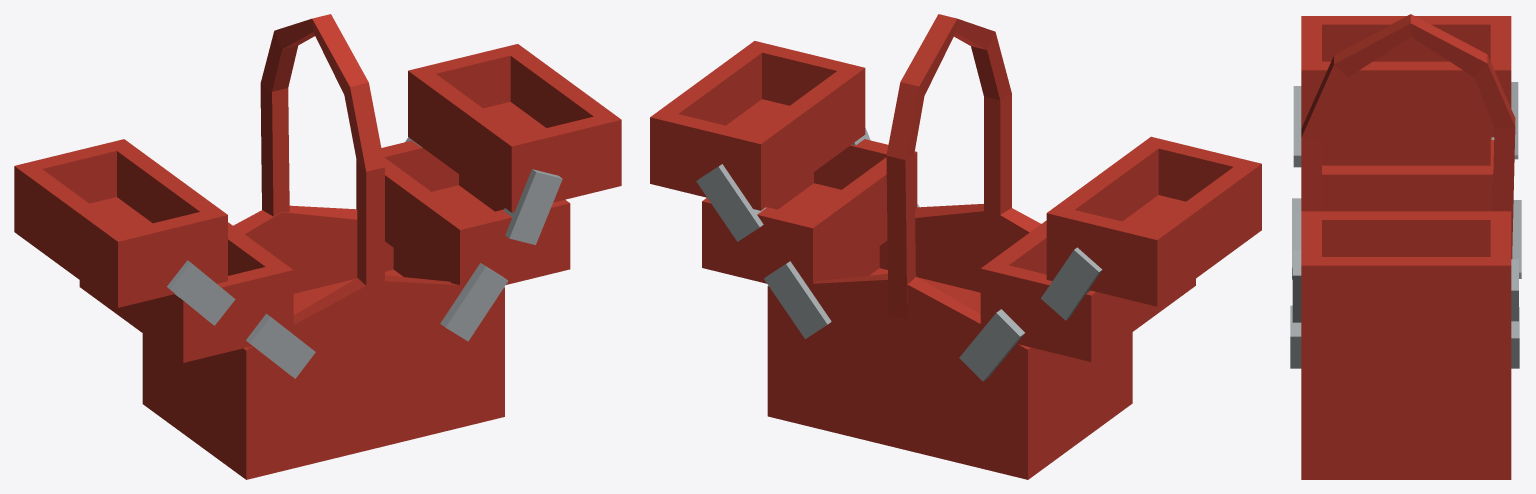
File: Tool-Bag.fbx
3 views of the same model, side by side, from view 1: azimuth 30°, elevation 25°; view 2: azimuth 150°, elevation 25°; view 3: azimuth 270°, elevation 25° (orthographic).
Visible parts, largest first — view 1: Tool-Bag; view 2: Tool-Bag; view 3: Tool-Bag.
Part boxes in pixels (x1,y1,x2,y2): Tool-Bag: (14,14,621,479); Tool-Bag: (650,14,1261,479); Tool-Bag: (1290,14,1521,479).
Size of the model in its own units: 0.9818 by 0.7311 by 0.3862.
